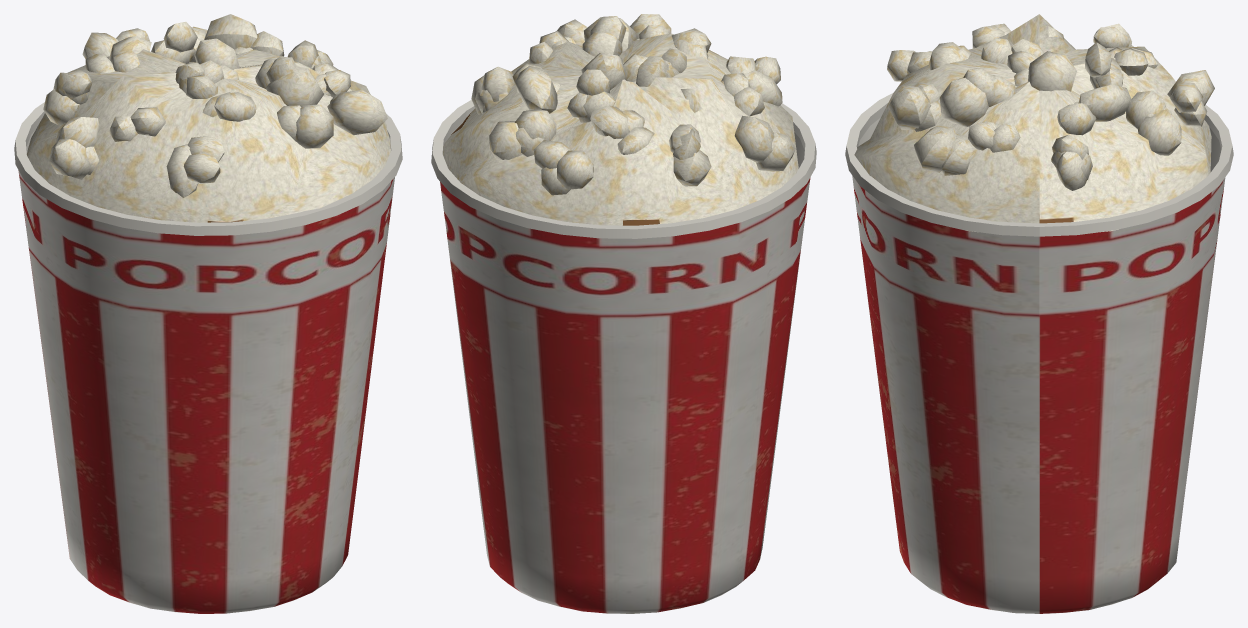
Rendered from popcorn_bucket.glb.
3 renders of one model, left to right at view 1: azimuth 30°, elevation 25°; view 2: azimuth 150°, elevation 25°; view 3: azimuth 270°, elevation 25°, orthographic.
Parts seen in each view (by area): view 1: bucket, popcorn; view 2: bucket, popcorn; view 3: bucket, popcorn.
Boxes of the visible parts, x1,y1,x2,y2 form: bucket: (14,102,402,613); popcorn: (27,14,390,222); bucket: (431,100,816,613); popcorn: (443,14,798,225); bucket: (845,93,1233,613); popcorn: (854,14,1214,232).
Bounding box in the file's own units: 0.1847 × 0.2697 × 0.1847.
Materials: 2 (2 with a texture image).
